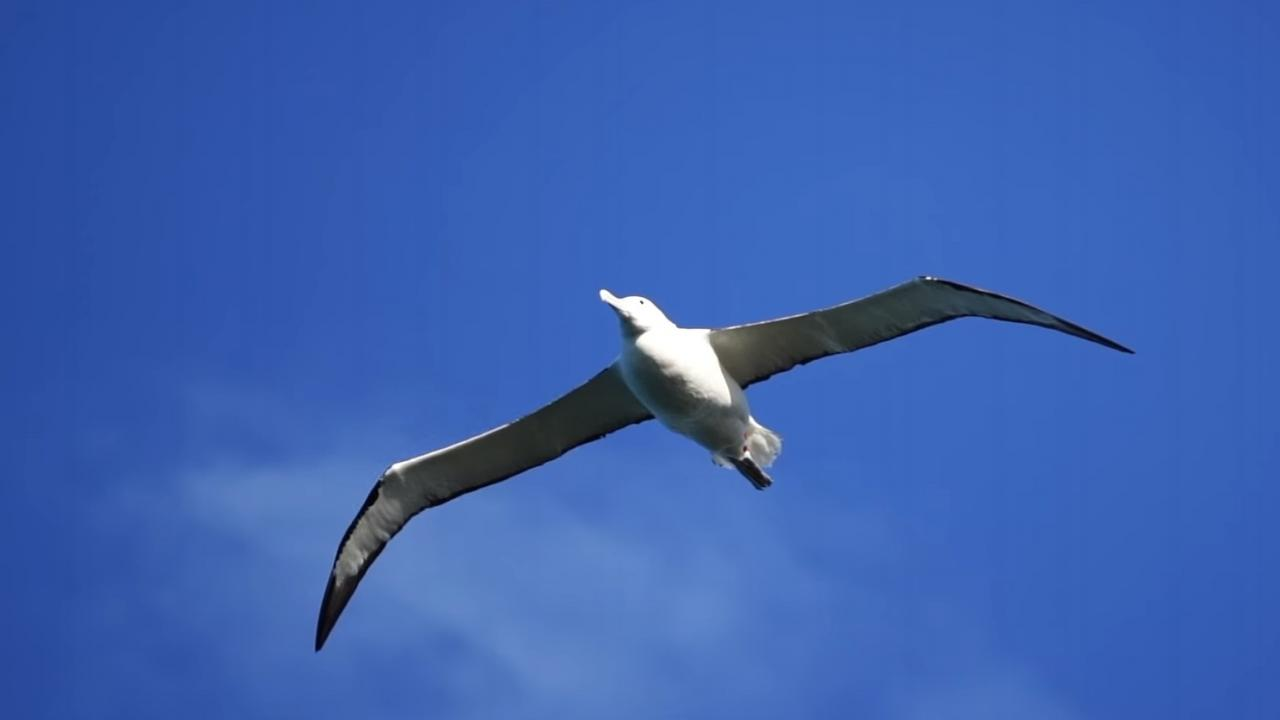Bird: (306, 266, 1146, 662)
